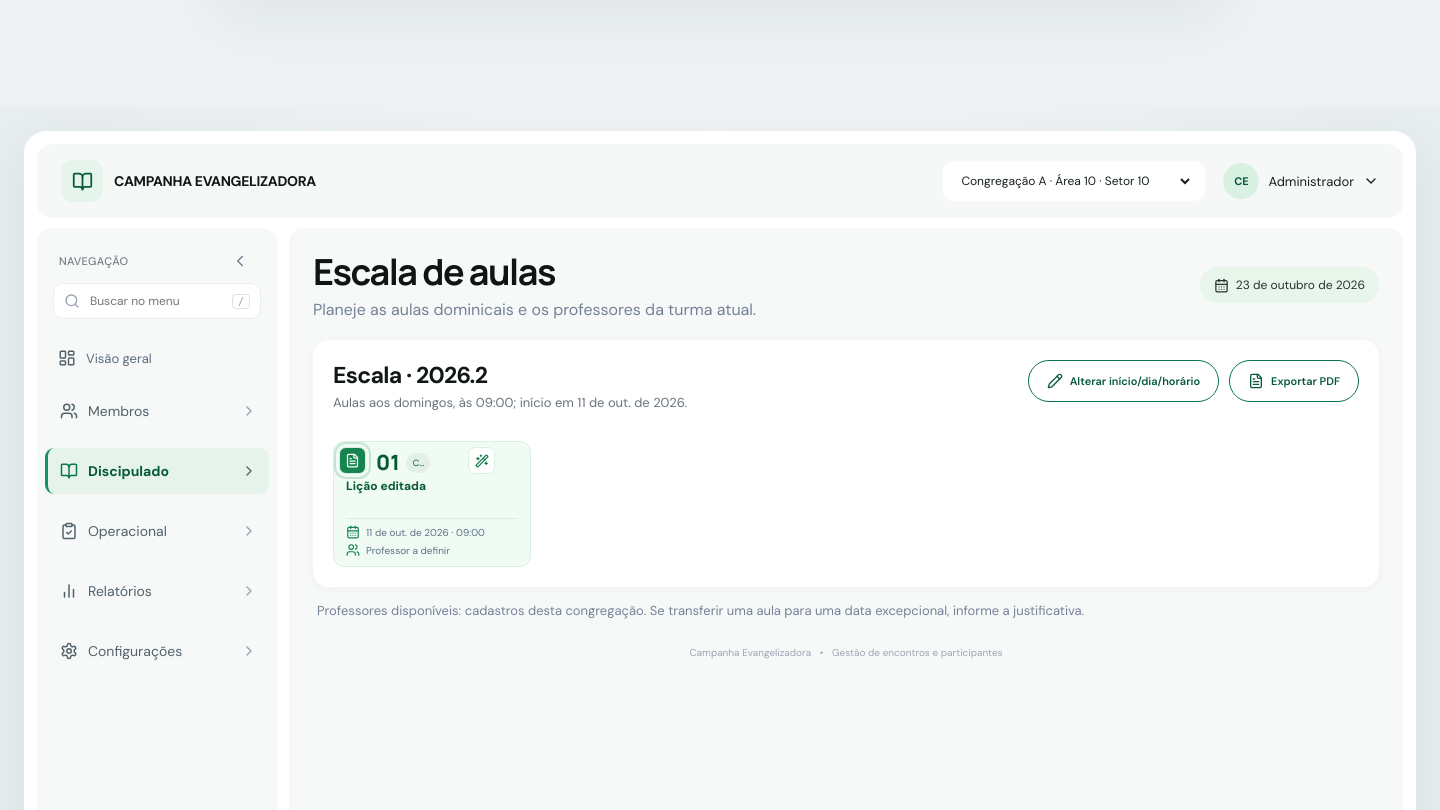
Scenario: fluxos do painel › permite abrir o editor por teclado, salvar o conteúdo e fechar com Escape
The width and height of the screenshot is (1440, 810).
(page scrolled)
Press Enter
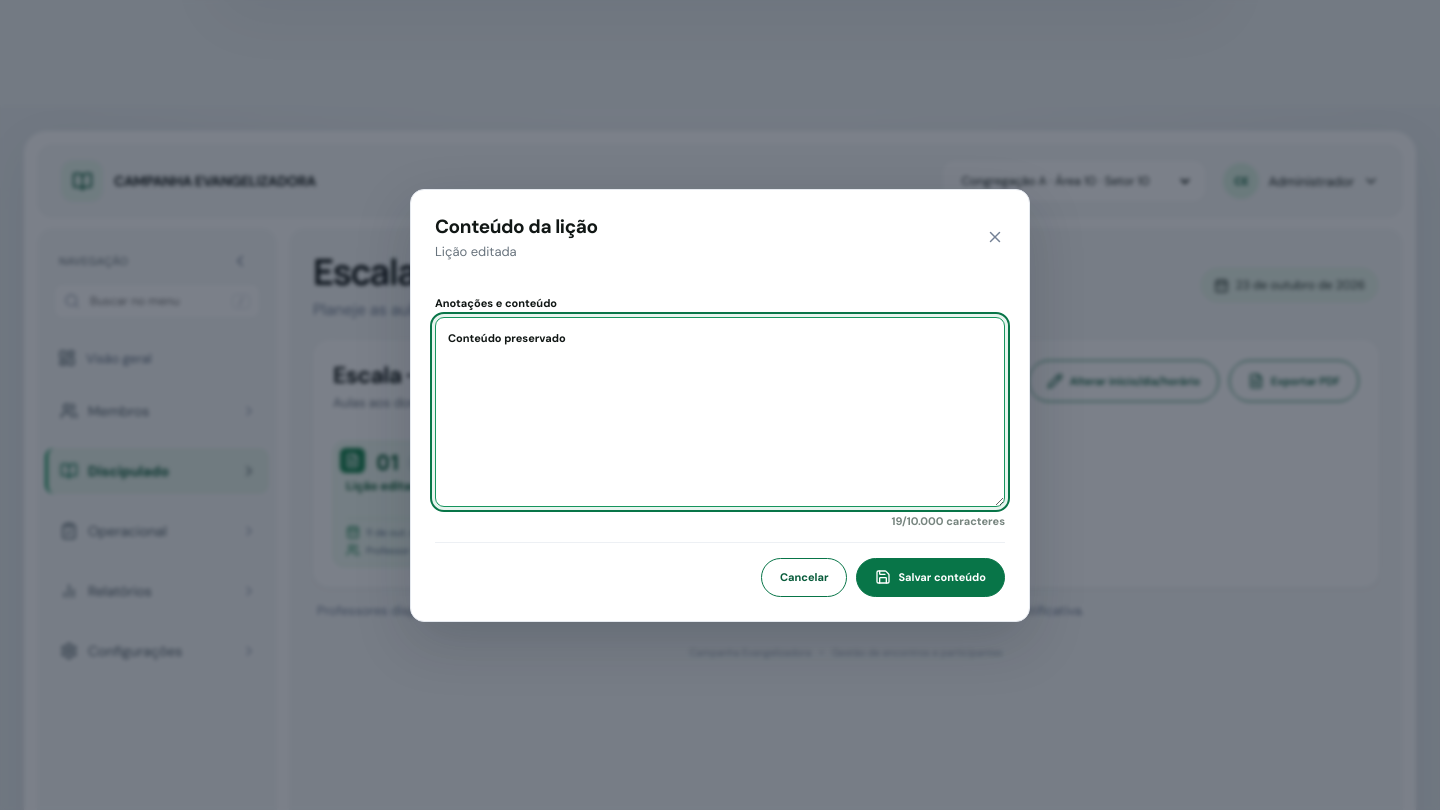
Replace the text in the text box labelled "Anotações e conteúdo 19/10.000 caracteres" with "Novo conteúdo da lição". click: (720, 412)
box: [435,316,1005,506]
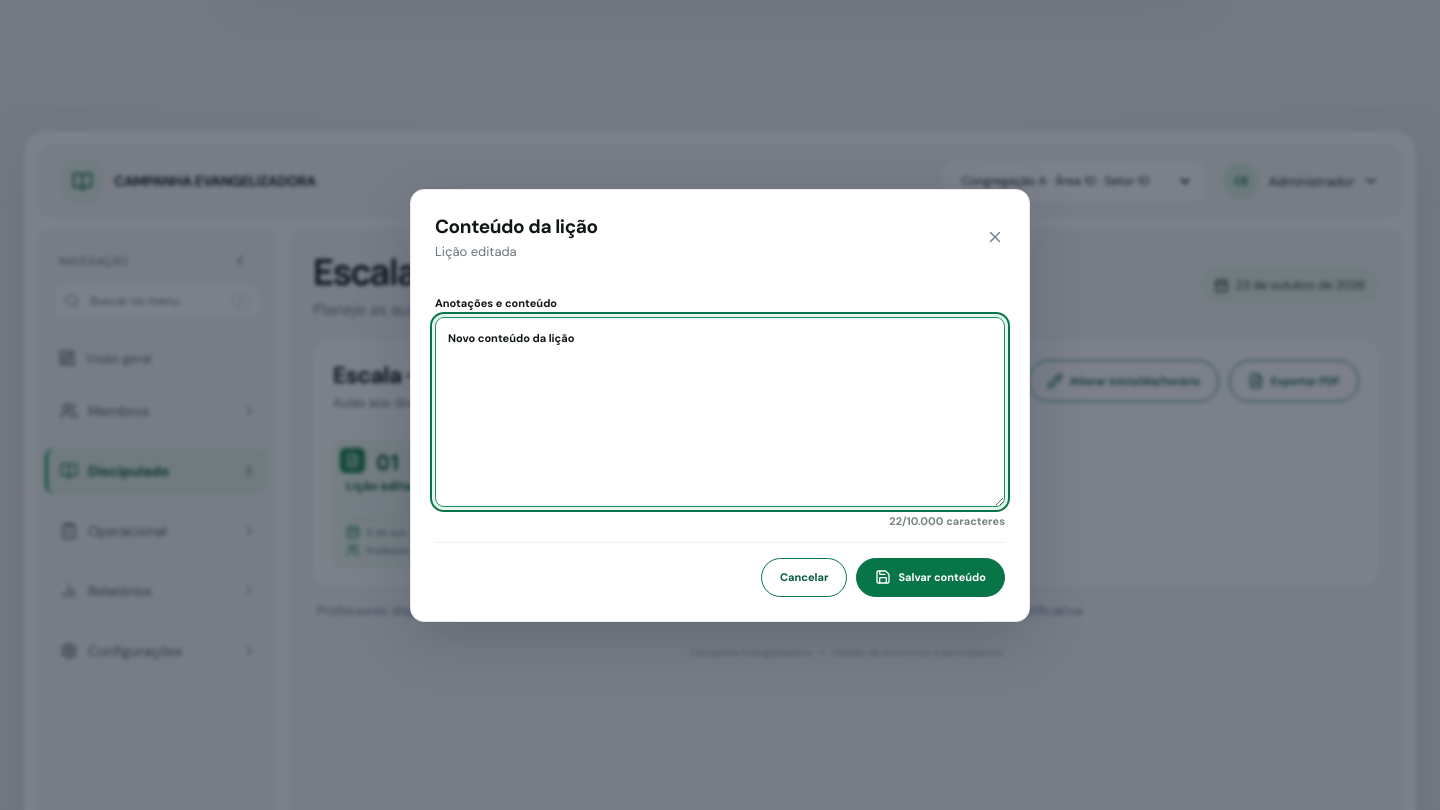
Click the button "Salvar conteúdo". click: (931, 577)
box: [856,558,1005,596]
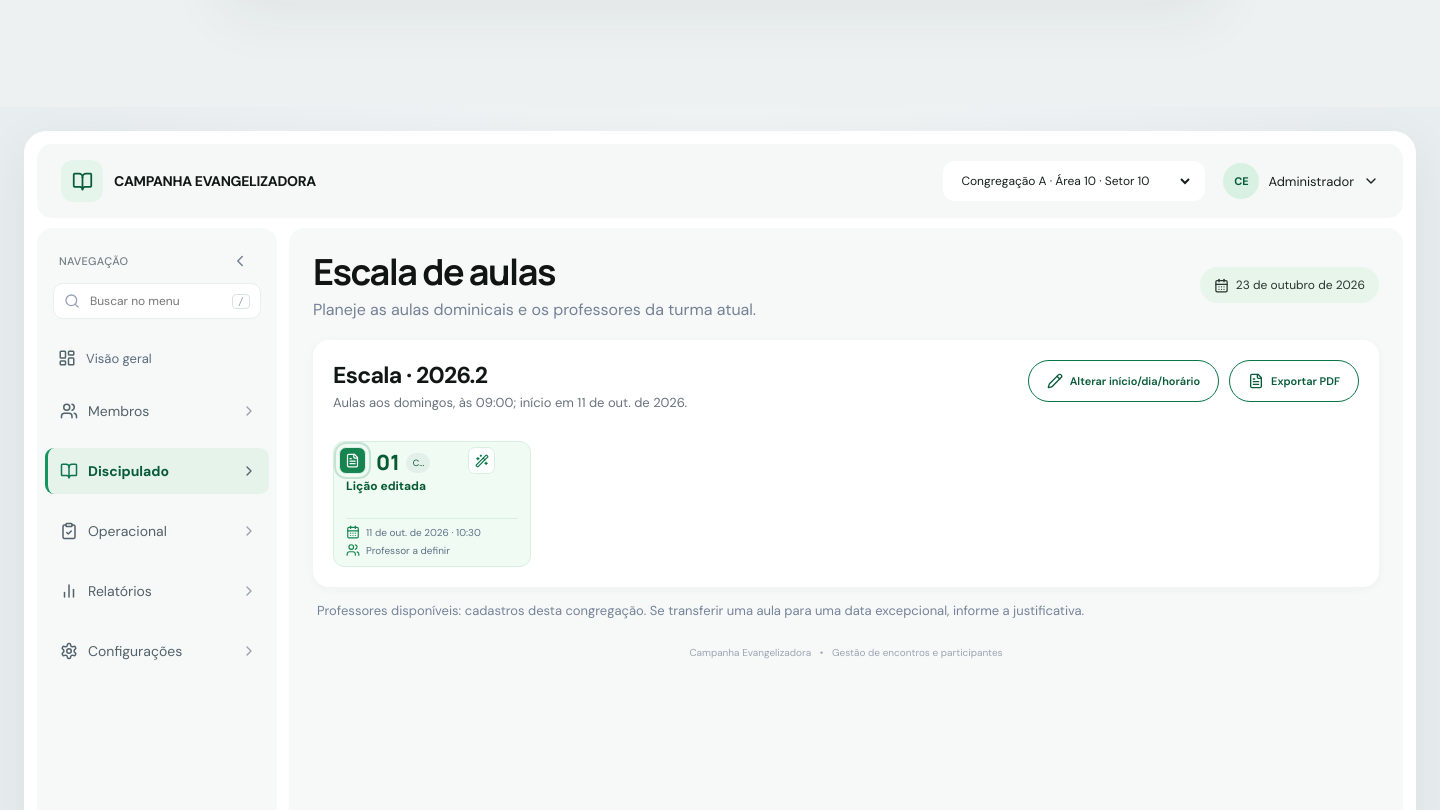
Now the dialog is gone
Click the button named "Adicionar ou editar conteúdo". click: (352, 461)
box: [339,447,366,474]
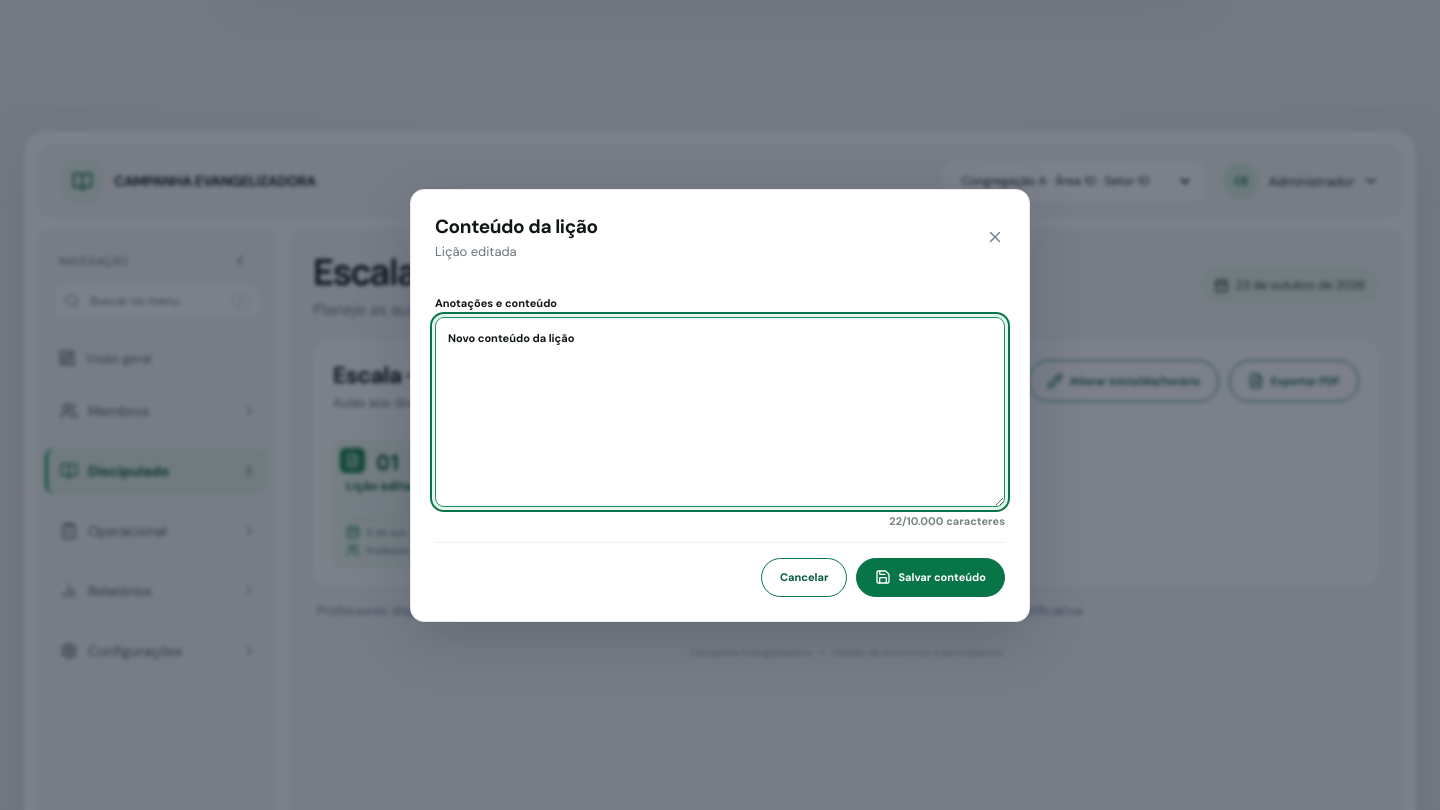
Now the dialog is shown, box [410,188,1030,622]
Press Escape
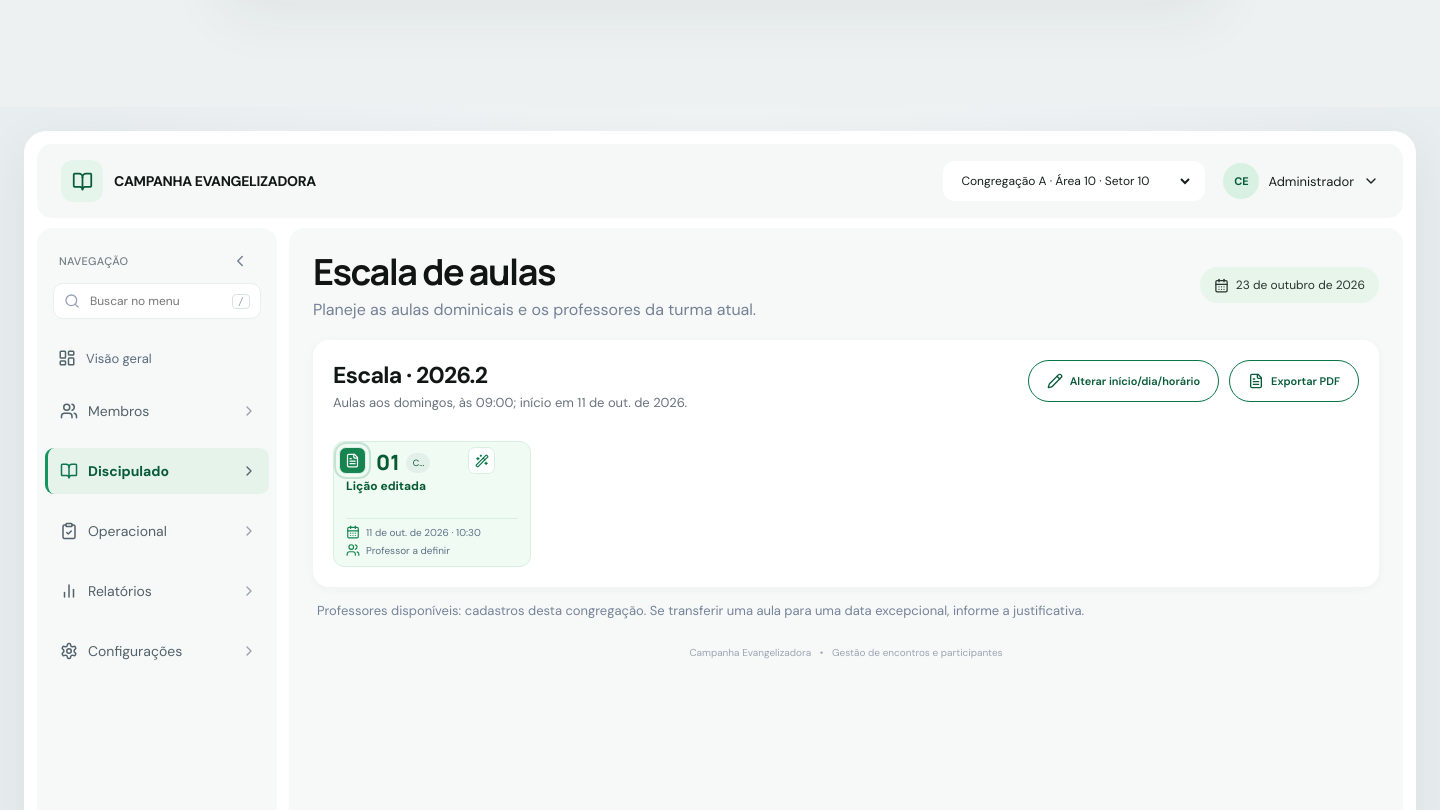
Now the dialog is gone
